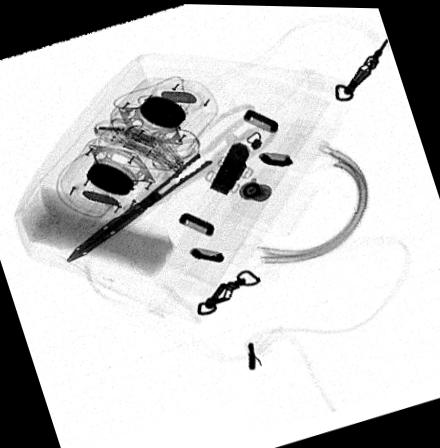Scissors: (67, 103, 279, 262)
